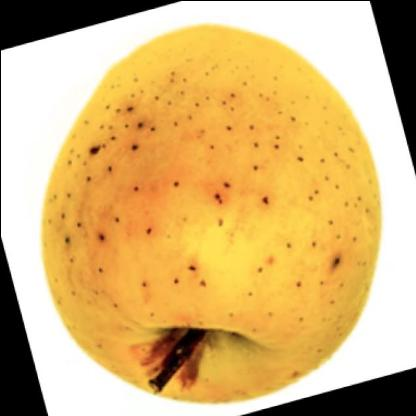defect: (49, 67, 361, 333), (86, 100, 212, 300)
